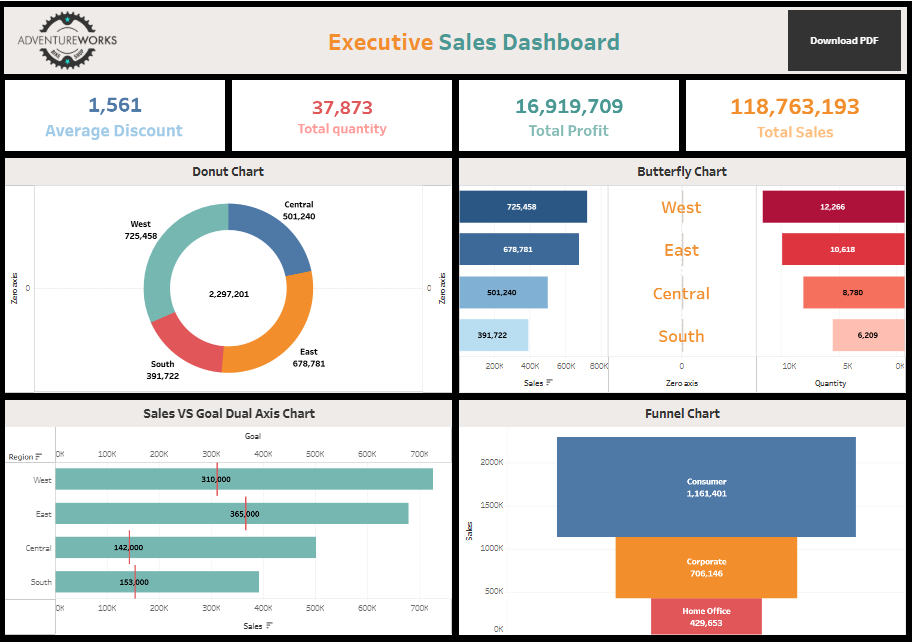

This screenshot's page, from the dashboard's own definition file:
{"tool":"tableau","page":{"name":"Executive Sales Dashboard 1 ","canvas":[1600,1200],"ordinal":0},"visuals":[{"type":"image","param":"Image/Image20240624080118.png","box":[39.3,65,254,105]},{"type":"text","box":[293.3,65,995,105]},{"type":"dashboard-object","box":[1288.3,65,190,105]},{"type":"worksheet","title":"BANS - Average Discount","mark":"Automatic","box":[34,175,364,125]},{"type":"worksheet","title":"BANS - Total quantity","mark":"Automatic","box":[398,175,363,125]},{"type":"worksheet","title":"BANS - Total Profit","mark":"Automatic","box":[761,175,363,125]},{"type":"worksheet","title":"BANS -Total Sales","mark":"Automatic","box":[1124,175,363,125]},{"type":"worksheet","title":"Donut Chart","mark":"Pie","rows":["Calculation_578149633646366720","Calculation_578149633646366720"],"box":[33.8,300,727.1,387.5]},{"type":"worksheet","title":"Butterfly Chart","mark":"Automatic","rows":["Region"],"cols":["Sales","Calculation_578149633646366720","Quantity"],"box":[760.9,300,726.2,387.5]},{"type":"worksheet","title":" Sales VS Goal Dual Axis Chart","mark":"Automatic","rows":["Region"],"cols":["Sales","Goal"],"box":[33.8,687.5,727.1,387.5]},{"type":"worksheet","title":"Funnel Chart","mark":"Automatic","rows":["Sales"],"box":[760.9,687.5,726.2,387.5]}]}

Visuals, with their boxes on the page's 1600x1200 design canvas (x1, y1, x2, y2). These are canvas units, not pixel positions in the 912x643 screenshot, which may show the page scaled, cropped or inside an application window:
image: (left=39, top=65, right=293, bottom=170)
text: (left=293, top=65, right=1288, bottom=170)
dashboard-object: (left=1288, top=65, right=1478, bottom=170)
"BANS - Average Discount" worksheet: (left=34, top=175, right=398, bottom=300)
"BANS - Total quantity" worksheet: (left=398, top=175, right=761, bottom=300)
"BANS - Total Profit" worksheet: (left=761, top=175, right=1124, bottom=300)
"BANS -Total Sales" worksheet: (left=1124, top=175, right=1487, bottom=300)
"Donut Chart" worksheet (Pie marks): (left=34, top=300, right=761, bottom=688)
"Butterfly Chart" worksheet: (left=761, top=300, right=1487, bottom=688)
" Sales VS Goal Dual Axis Chart" worksheet: (left=34, top=688, right=761, bottom=1075)
"Funnel Chart" worksheet: (left=761, top=688, right=1487, bottom=1075)
